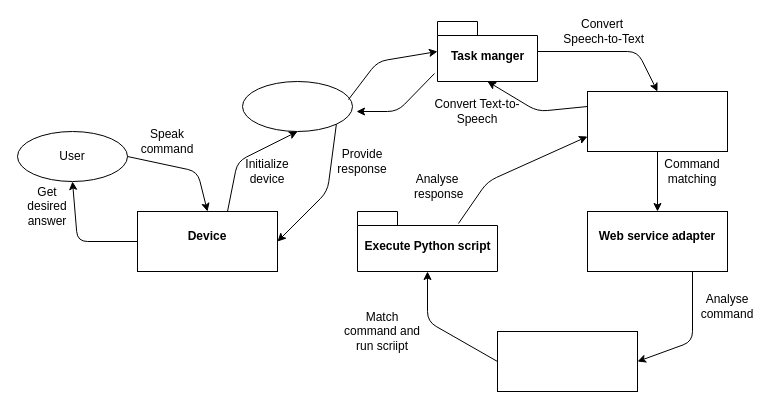
Image size: 771x409. Some labels were removed from this diagram. The shapes that lost their labels are listed below. From the top down, each one's box as (x1, y1, x2, y2) in pixels, then its label:
(242, 80, 352, 132): Controller
(586, 90, 728, 152): Service manager
(496, 330, 638, 392): Firebase Cloud Server
